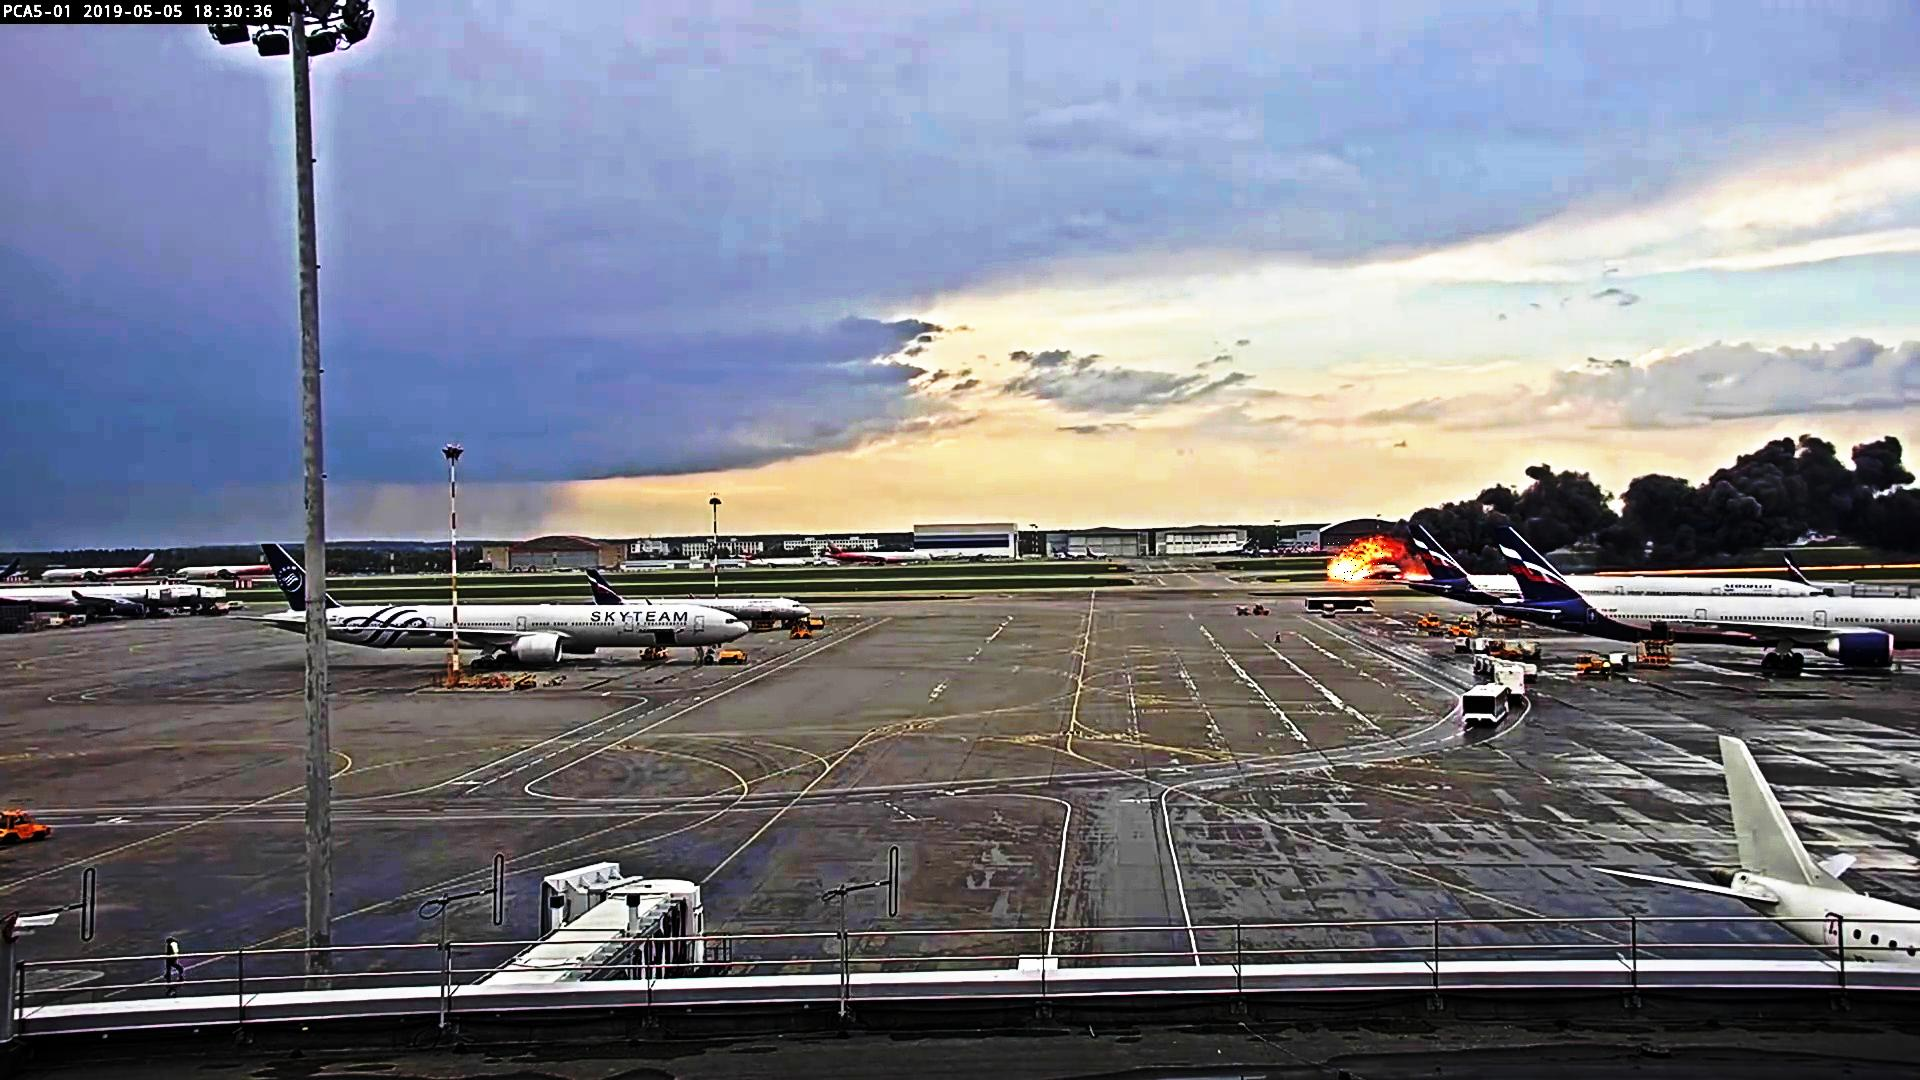fire: (1328, 538, 1391, 584)
